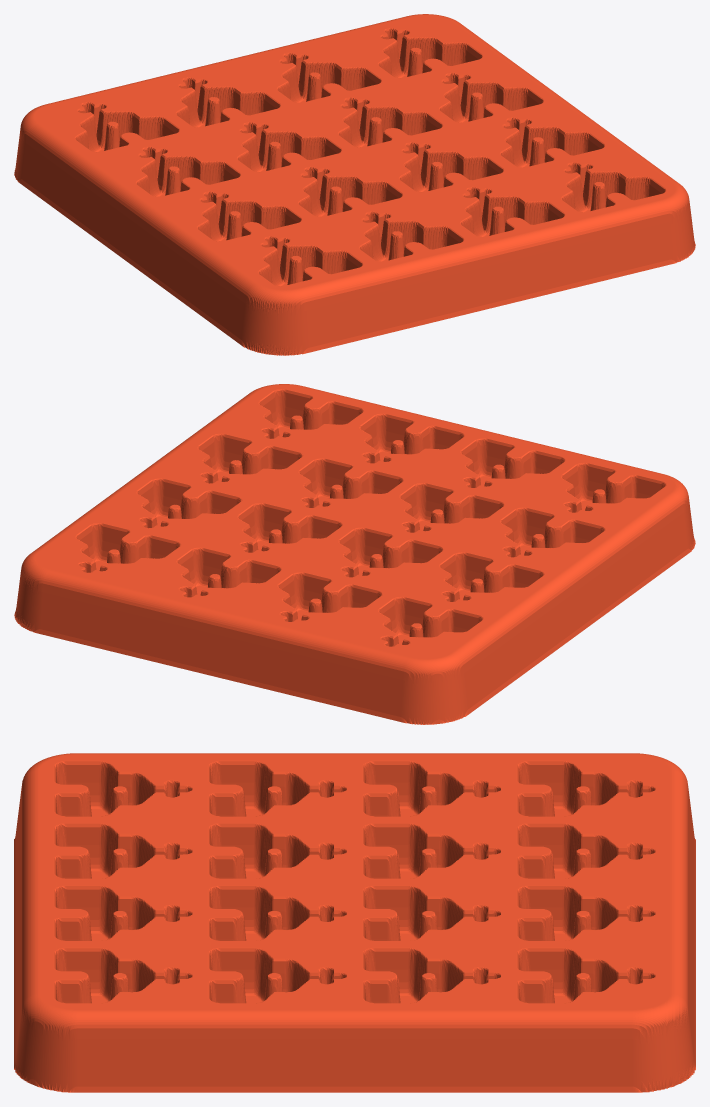
The model's file is mold.glb.
3 views of the same model, one above another, from view 1: azimuth 30°, elevation 25°; view 2: azimuth 150°, elevation 25°; view 3: azimuth 270°, elevation 25° (orthographic). The views are drawn at different scales.
Visible parts, largest first — view 1: geometry_0; view 2: geometry_0; view 3: geometry_0.
Part boxes in pixels (box(x1,y1,x2,y2)): geometry_0: box(14, 14, 695, 355); geometry_0: box(14, 384, 695, 724); geometry_0: box(14, 753, 695, 1092).
Size of the model in its own units: 0.0932 by 0.0114 by 0.0972.
